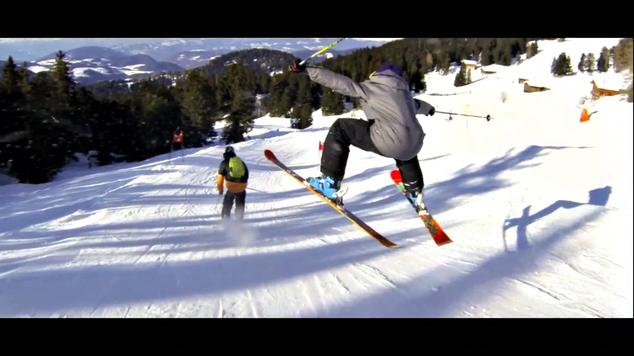down: (544, 49, 571, 80)
stay: (218, 140, 250, 223)
walk: (409, 200, 449, 249)
